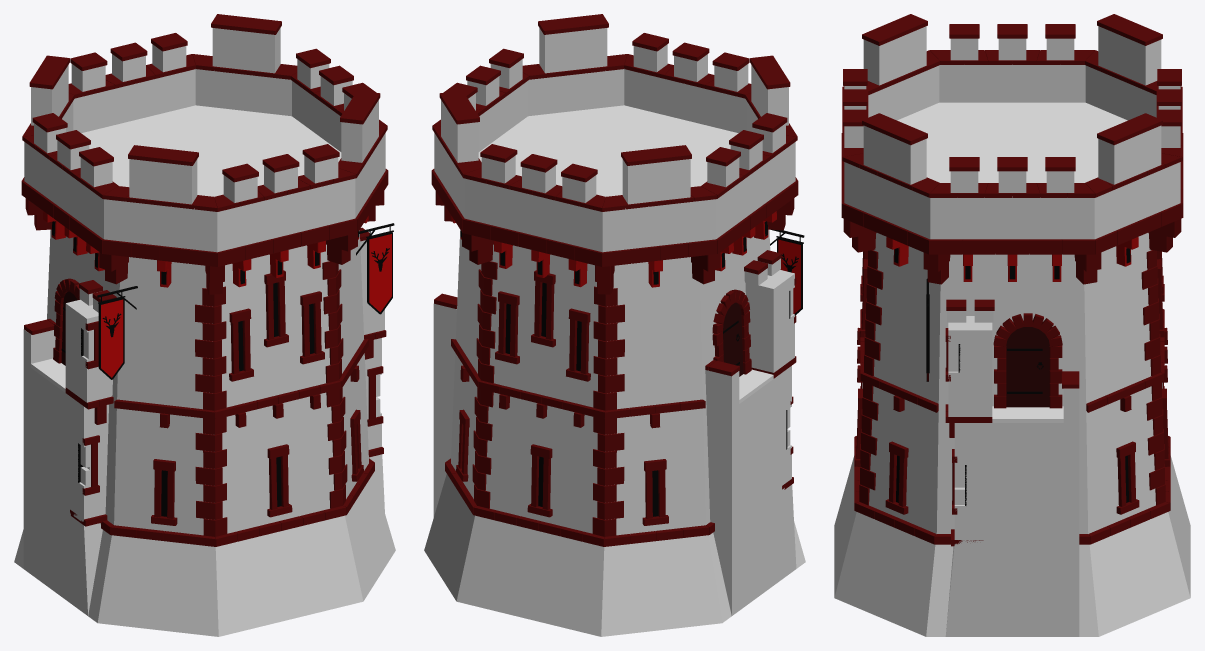
Rendered from SilverbrookWallTower.fbx.
3 views of the same model, side by side, from view 1: azimuth 30°, elevation 25°; view 2: azimuth 150°, elevation 25°; view 3: azimuth 270°, elevation 25° (orthographic). The views are drawn at different scales.
Parts seen in each view (by area): view 1: SM_SBWallTower_Masonry, SM_SBWallTower_Dressed, SM_SBWallTower_Walk, SM_SBWallTower_Details; view 2: SM_SBWallTower_Masonry, SM_SBWallTower_Dressed, SM_SBWallTower_Walk, SM_SBWallTower_Details; view 3: SM_SBWallTower_Masonry, SM_SBWallTower_Dressed, SM_SBWallTower_Walk, SM_SBWallTower_Details.
Boxes of the visible parts, left/top/right/bottom form: SM_SBWallTower_Masonry: left=14, top=28, right=395, bottom=636; SM_SBWallTower_Dressed: left=21, top=14, right=388, bottom=546; SM_SBWallTower_Walk: left=31, top=105, right=341, bottom=392; SM_SBWallTower_Details: left=43, top=211, right=394, bottom=379; SM_SBWallTower_Masonry: left=424, top=28, right=805, bottom=636; SM_SBWallTower_Dressed: left=431, top=14, right=798, bottom=546; SM_SBWallTower_Walk: left=478, top=105, right=773, bottom=403; SM_SBWallTower_Details: left=451, top=211, right=804, bottom=376; SM_SBWallTower_Masonry: left=834, top=26, right=1190, bottom=636; SM_SBWallTower_Dressed: left=841, top=14, right=1183, bottom=546; SM_SBWallTower_Walk: left=897, top=102, right=1127, bottom=422; SM_SBWallTower_Details: left=886, top=237, right=1138, bottom=407.
Size of the model in its own units: 800 by 1200 by 800.
